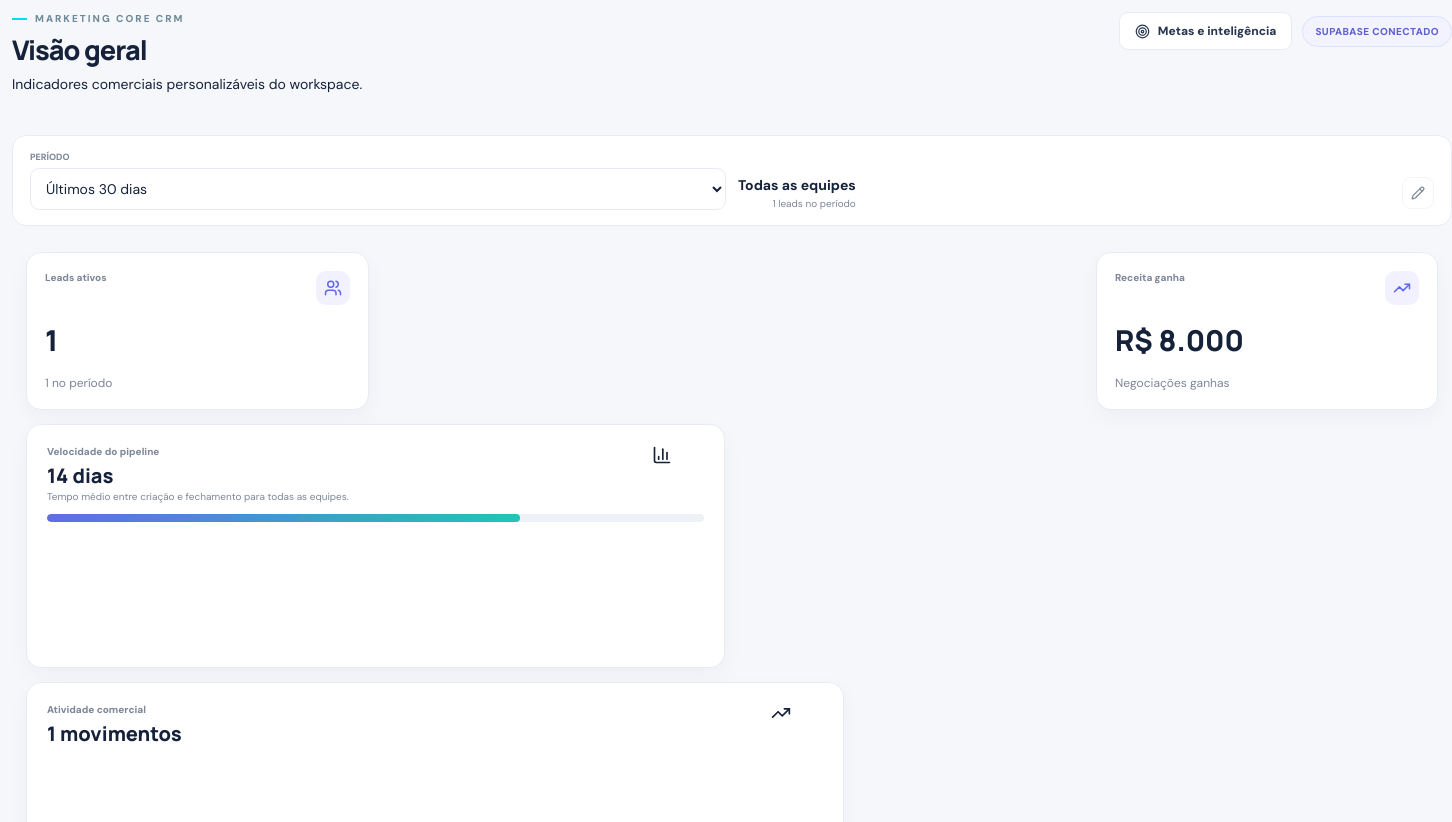
Test: DashboardPage › hides the team selector with one team and ignores a stale saved team filter
Select "Período personalizado" in the dropdown named "Período da visão geral" at (378, 189), box [30,168,726,210]
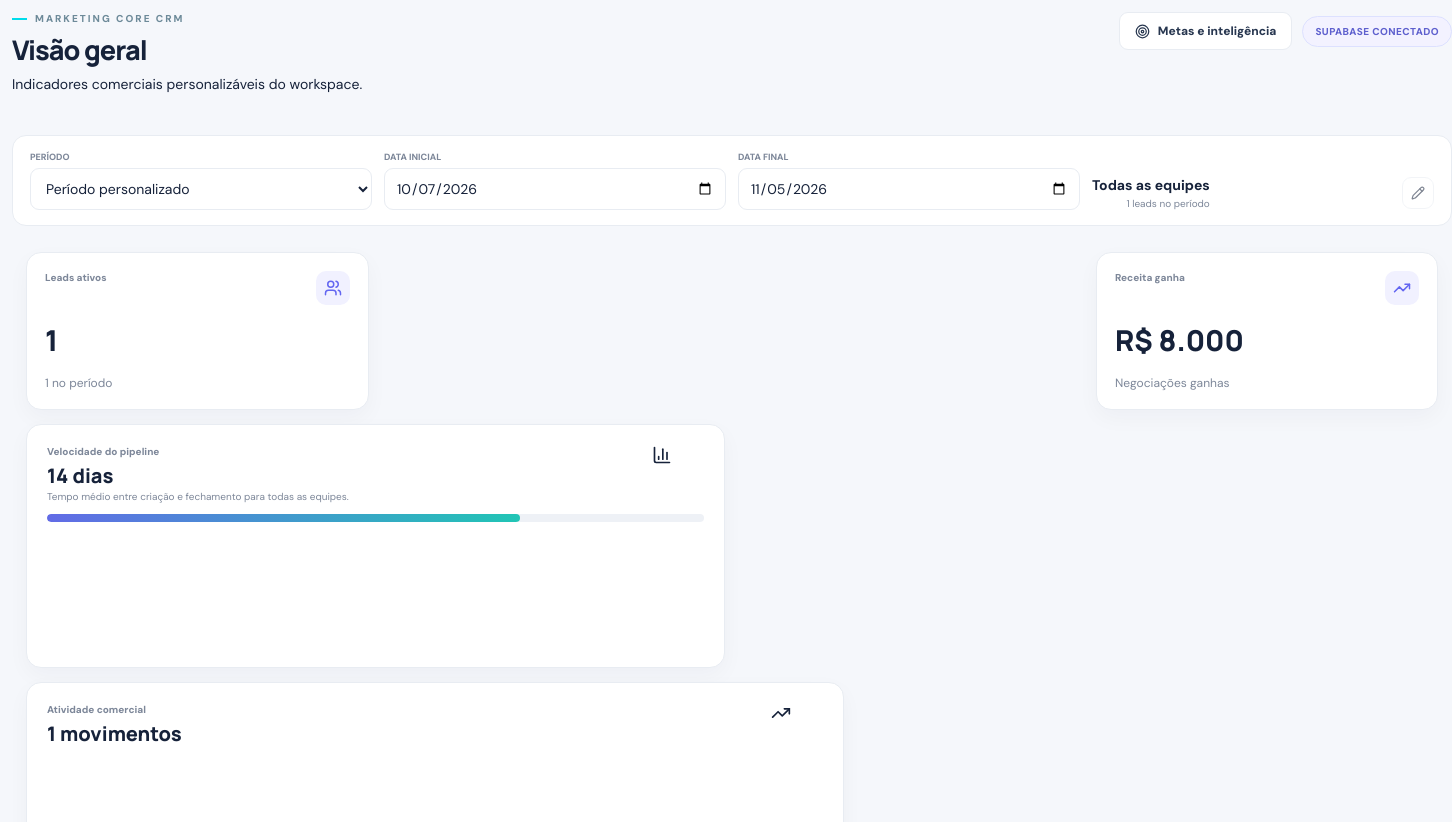
Type "2026-10-01" into the date field labelled "Data inicial" at (555, 189), box [384,168,726,210]
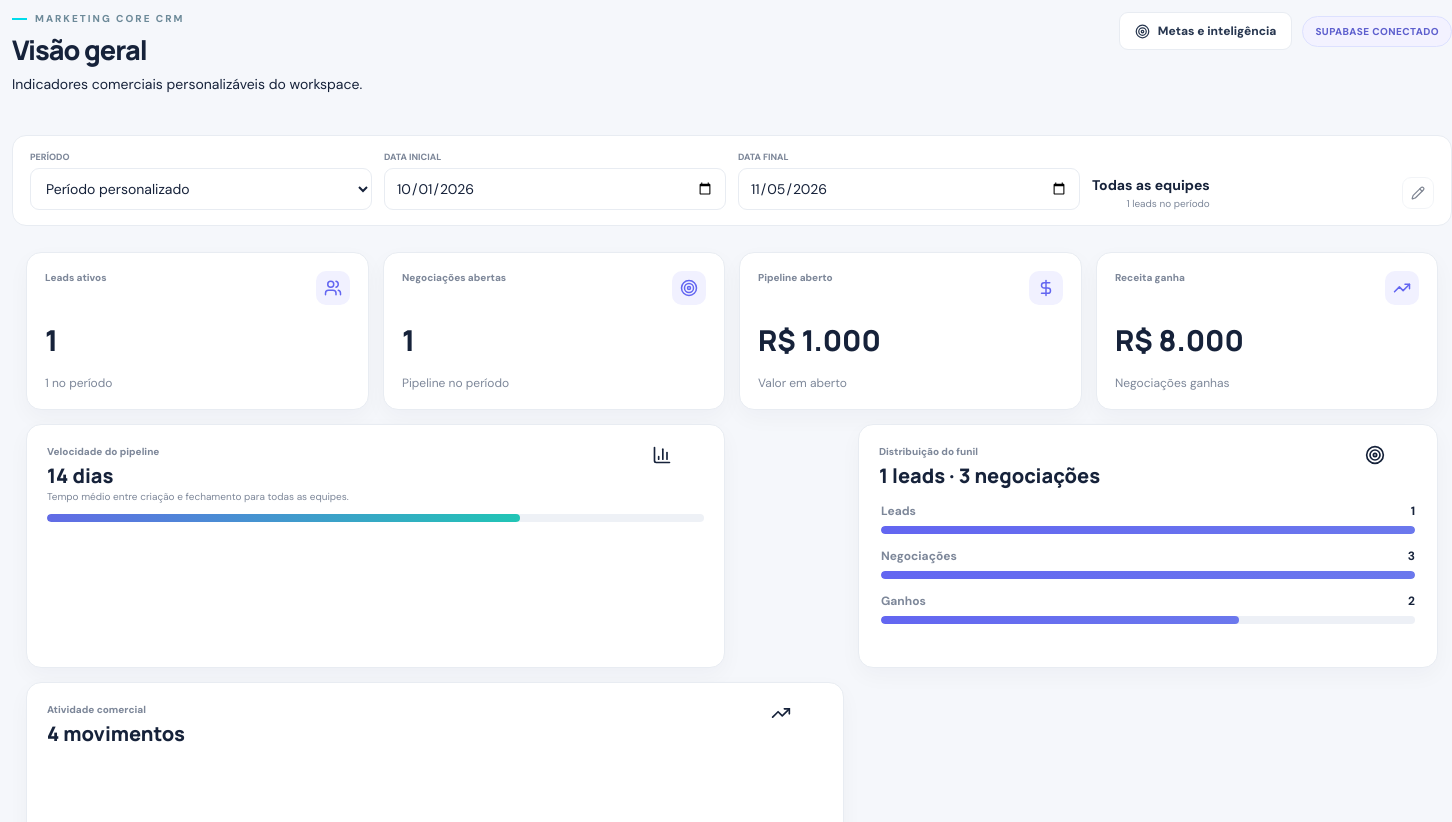
Type "2026-10-31" into the date field labelled "Data final" at (909, 189), box [738,168,1080,210]
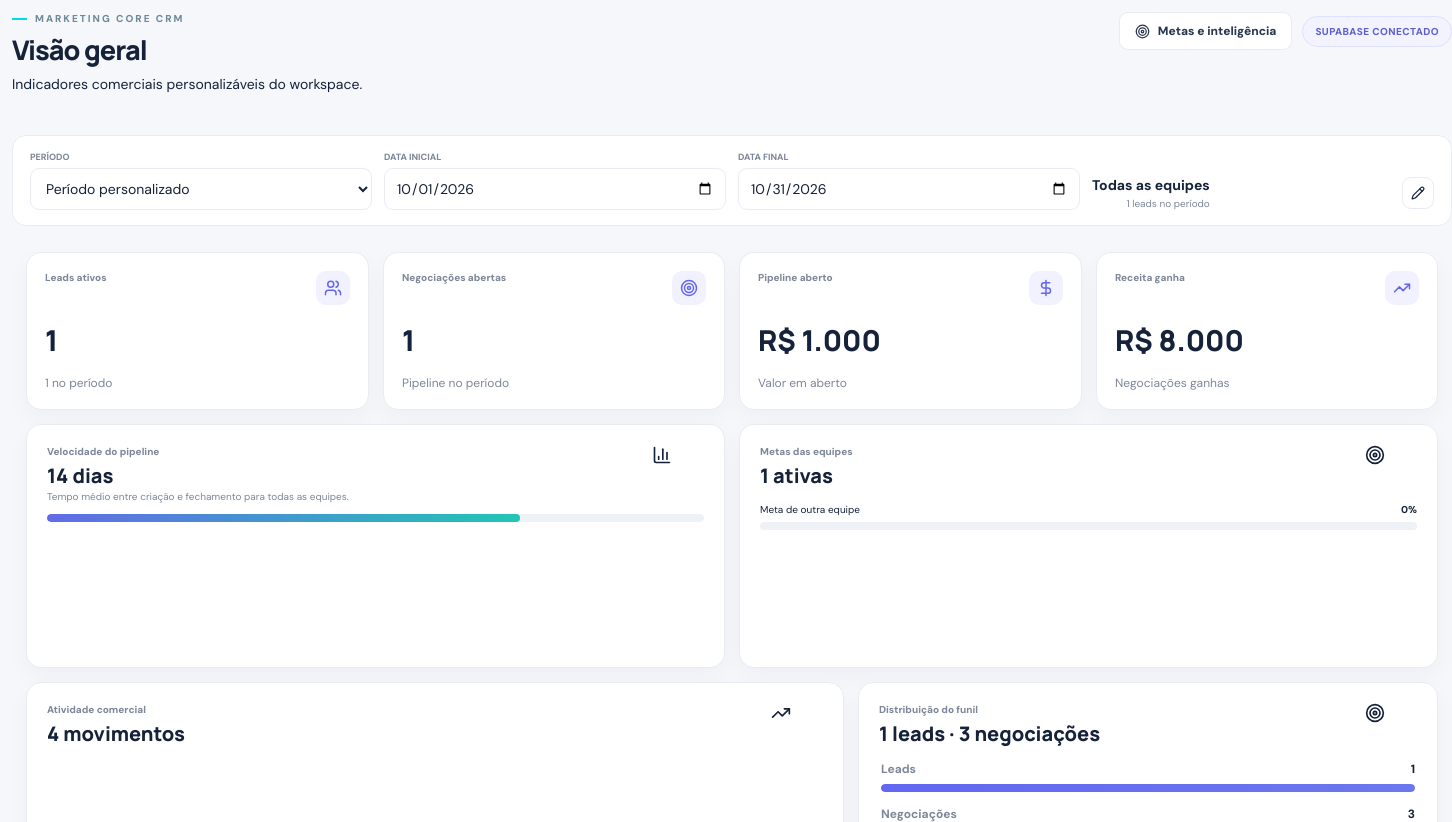
Expected: the button with test id "metric-revenue" shows "R$ 8.000", [1097,253,1437,409]
Expected: the element with test id "dashboard-block-goals" is shown, [739,424,1438,668]
Expected: the text "Meta de outra equipe" is shown, [760,503,860,516]
